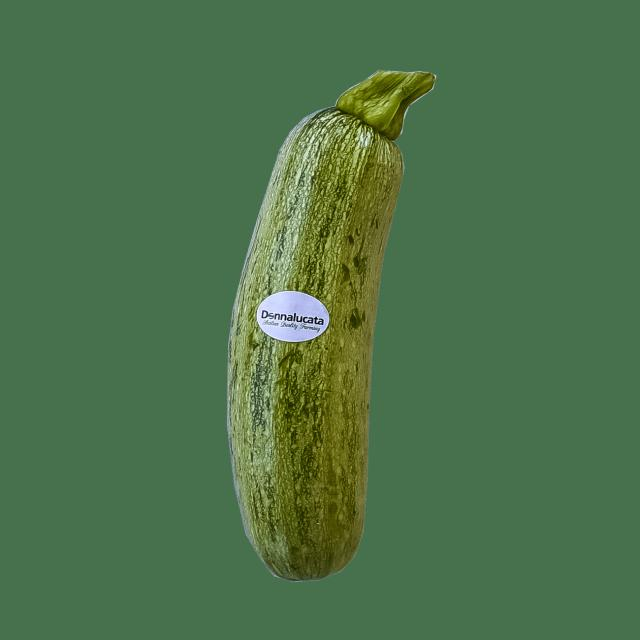Zucchini: (229, 67, 420, 575)
